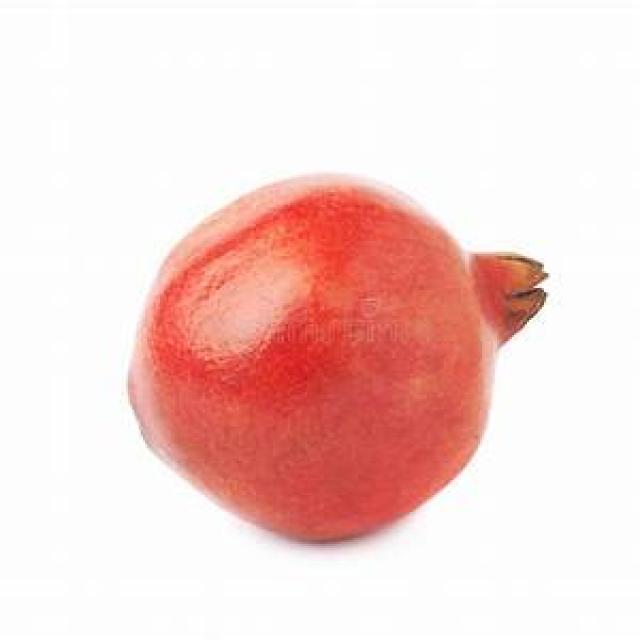Pomegranate: (124, 163, 553, 550)
